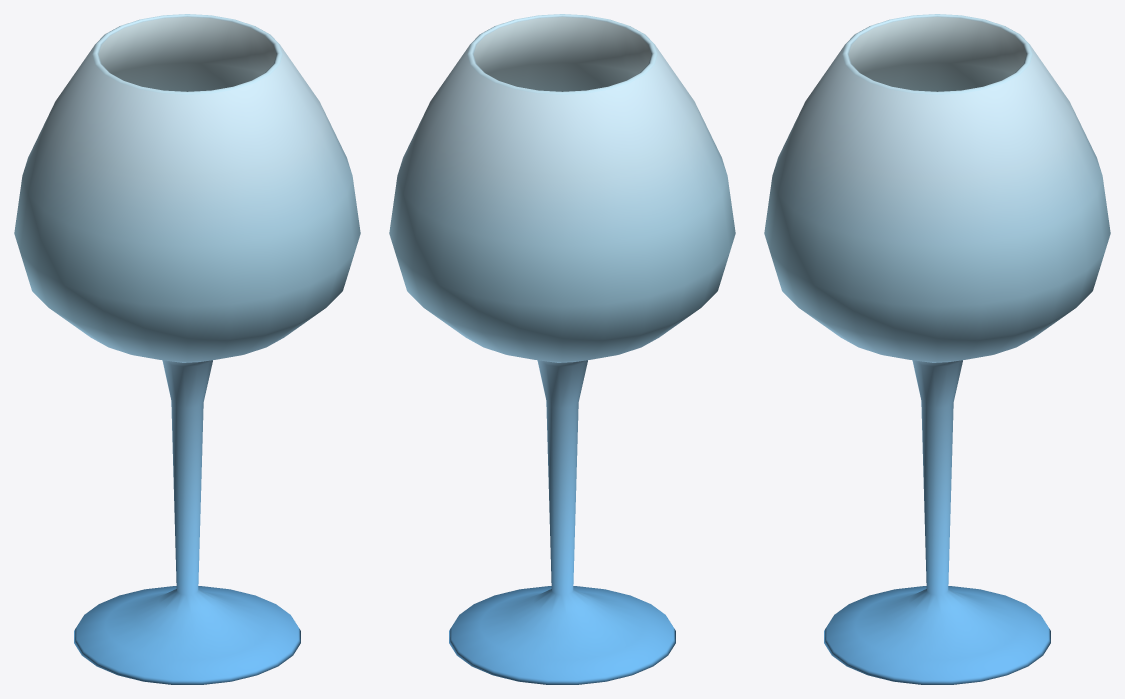
File: glass_001.fbx
3 views of the same model, side by side, from view 1: azimuth 30°, elevation 25°; view 2: azimuth 150°, elevation 25°; view 3: azimuth 270°, elevation 25° (orthographic).
Parts seen in each view (by area): view 1: glass_001; view 2: glass_001; view 3: glass_001.
Part boxes in pixels (x1=…): glass_001: x1=14, y1=14, x2=360, y2=684; glass_001: x1=389, y1=14, x2=735, y2=684; glass_001: x1=764, y1=14, x2=1110, y2=684.
Size of the model in its own units: 11.38 by 11.38 by 21.17.
